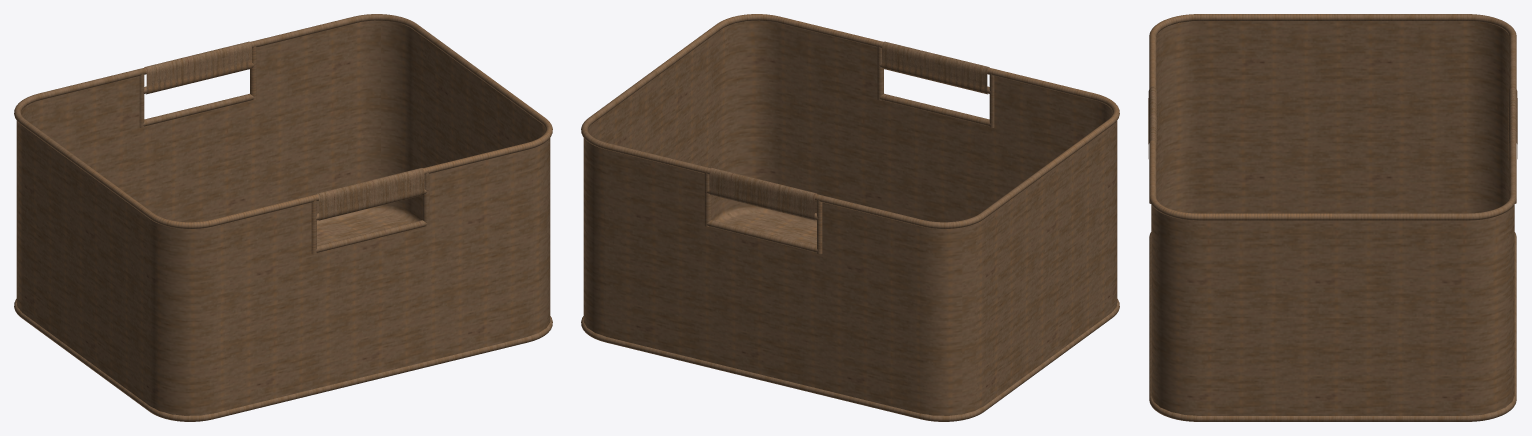
Rendered from wicker-basket.gltf.
3 views of the same model, side by side, from view 1: azimuth 30°, elevation 25°; view 2: azimuth 150°, elevation 25°; view 3: azimuth 270°, elevation 25° (orthographic). The views are drawn at different scales.
Parts seen in each view (by area): view 1: WickerBasket; view 2: WickerBasket; view 3: WickerBasket.
Boxes of the visible parts, x1,y1,x2,y2 form: WickerBasket: (14,14,552,421); WickerBasket: (581,14,1119,421); WickerBasket: (1148,14,1517,421).
Size of the model in its own units: 0.5982 by 0.2873 by 0.4612.
1 material, 1 textured.
